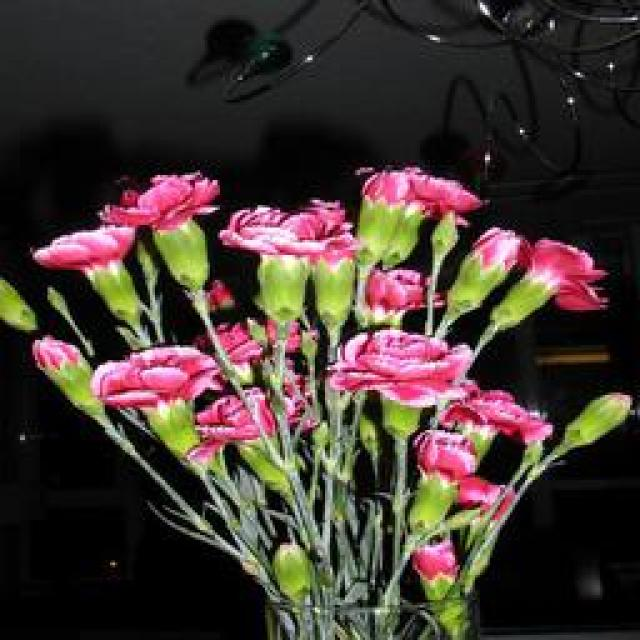carnation: (331, 319, 462, 440)
